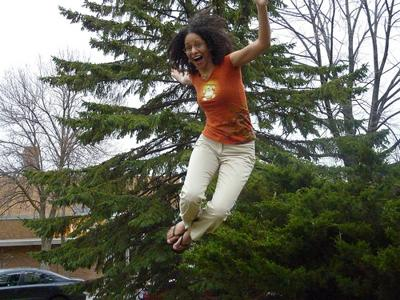person: (164, 2, 274, 249)
